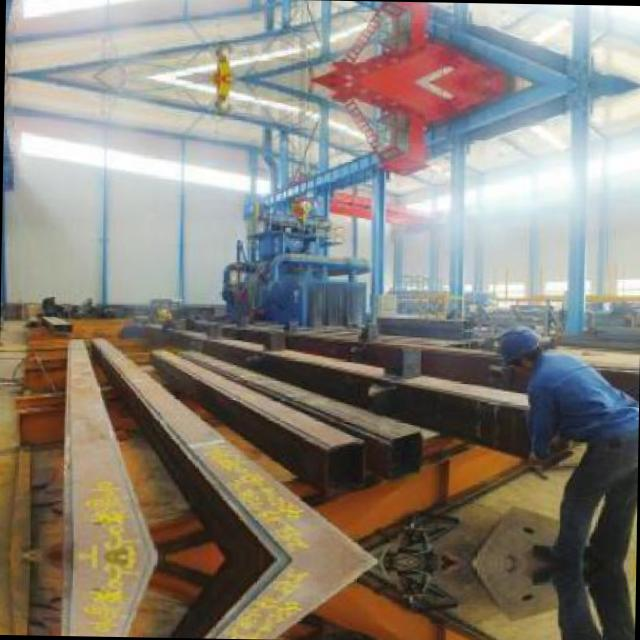helmet: (494, 324, 544, 376)
